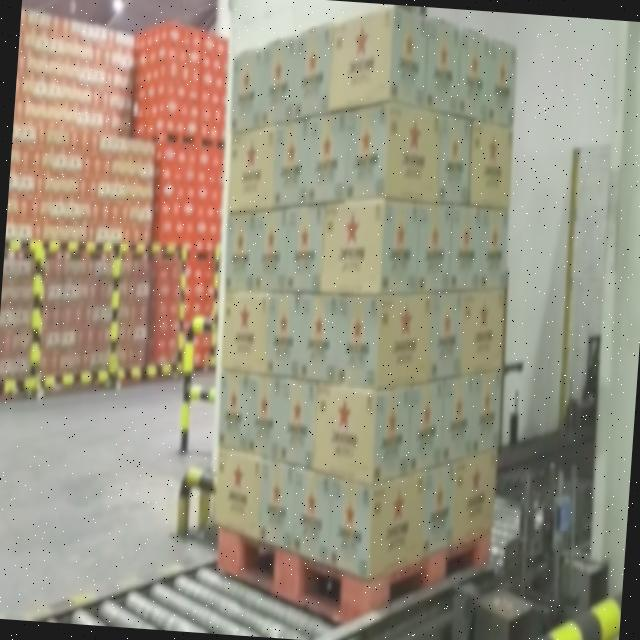pallet: (193, 0, 537, 640)
